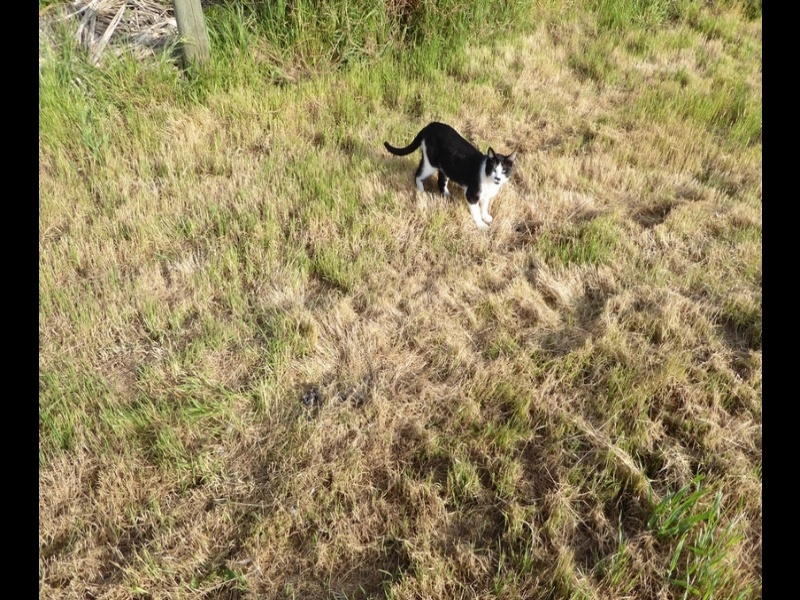cat: (383, 119, 522, 237)
